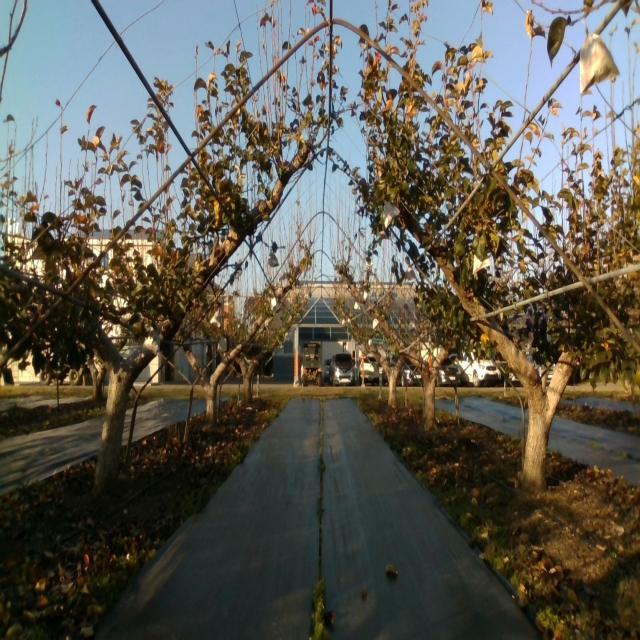pearbags: (578, 27, 620, 96), (142, 327, 161, 355), (472, 250, 492, 276), (383, 200, 400, 228), (210, 308, 222, 327)
